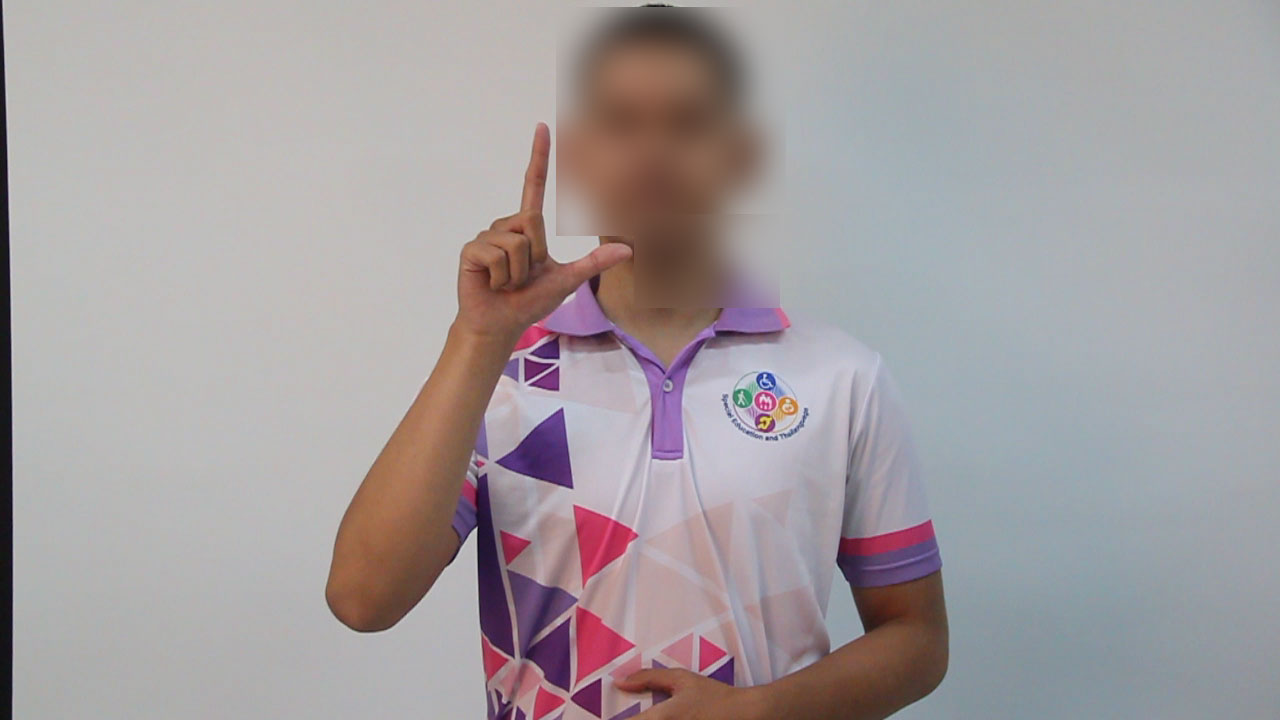lor: (411, 82, 640, 344)
